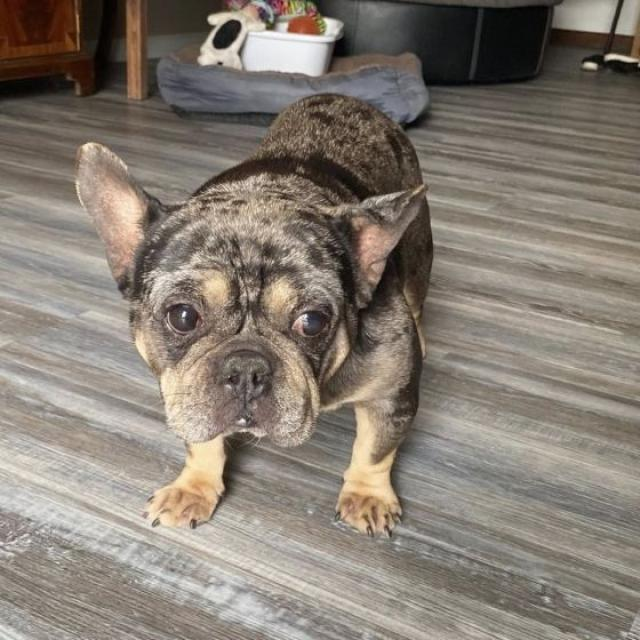french_bulldog_dog: (69, 139, 431, 455)
